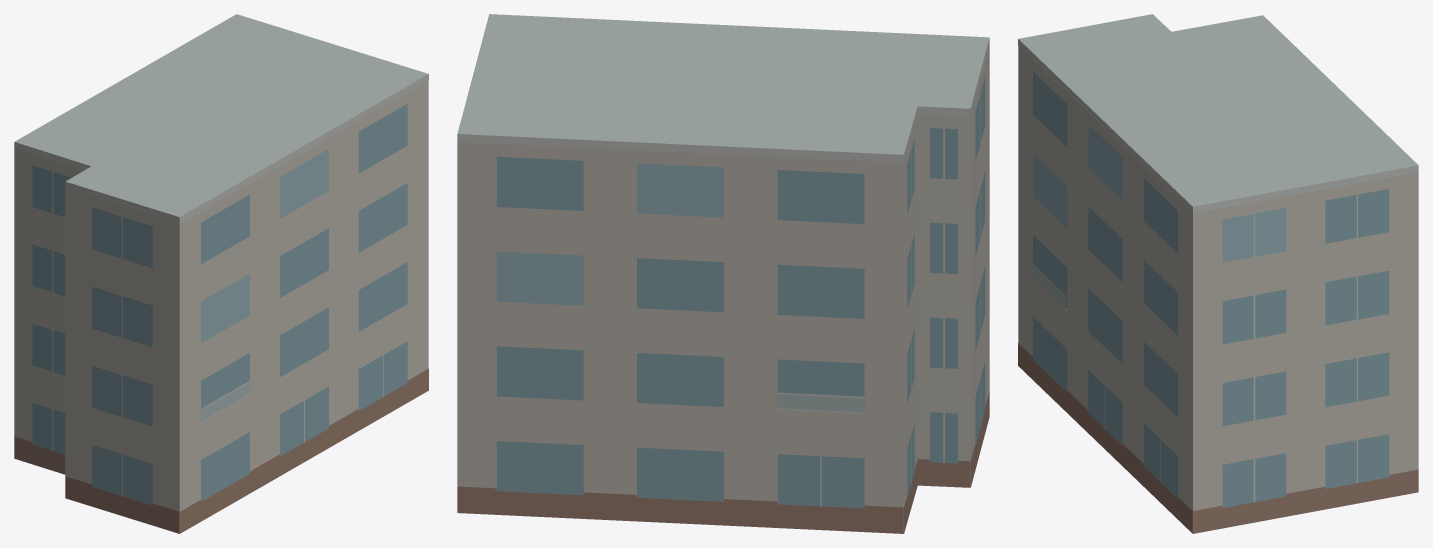
Rendered from survey-upis-32788740.glb.
The picture shows the model from 3 angles, left to right: view 1: azimuth 30°, elevation 25°; view 2: azimuth 150°, elevation 25°; view 3: azimuth 270°, elevation 25°; orthographic projection. The views are drawn at different scales.
Parts seen in each view (by area): view 1: survey-upis-32788740.tmp; view 2: survey-upis-32788740.tmp; view 3: survey-upis-32788740.tmp.
Boxes of the visible parts, x1,y1,x2,y2 form: survey-upis-32788740.tmp: (14, 14, 428, 533); survey-upis-32788740.tmp: (457, 14, 989, 533); survey-upis-32788740.tmp: (1018, 14, 1418, 533).
Bounding box in the file's own units: 14.81 × 11.7 × 12.99.
